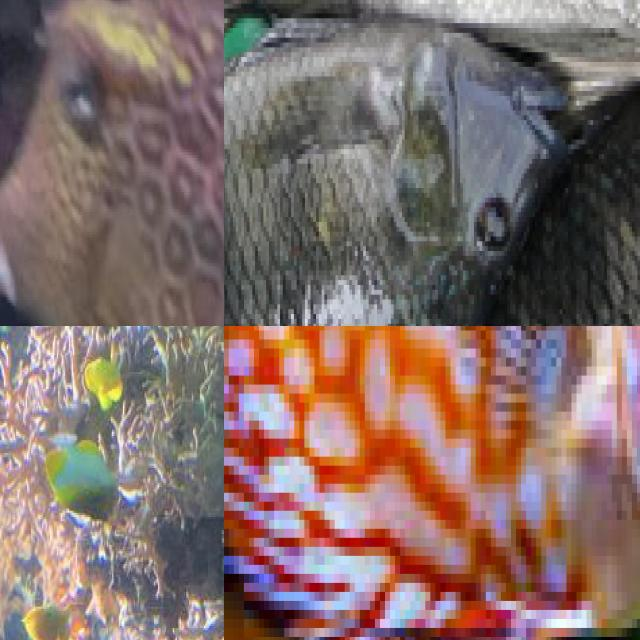fish: (224, 326, 640, 640), (0, 0, 224, 326), (224, 0, 640, 76)
